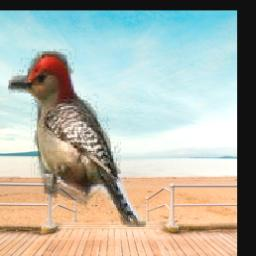Woodpecker: (7, 50, 145, 228)
